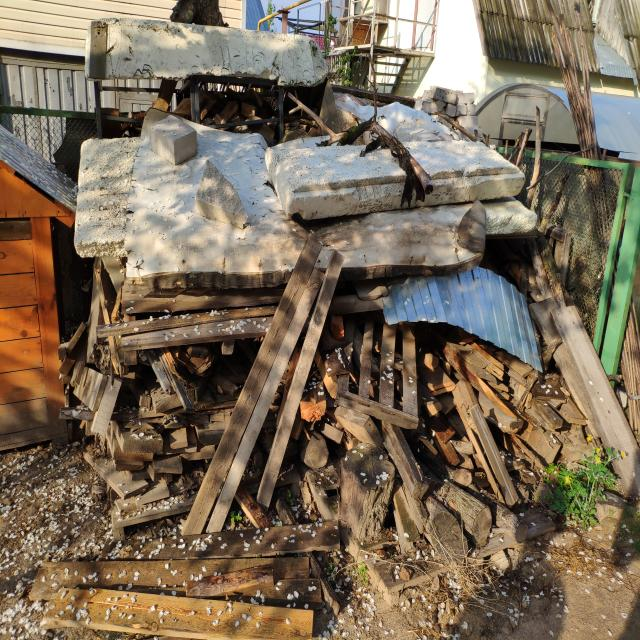entulho: (332, 309, 636, 609), (98, 331, 336, 529), (27, 531, 339, 629), (139, 112, 295, 284), (85, 13, 329, 91), (369, 98, 529, 206), (108, 263, 276, 349), (269, 137, 410, 222), (78, 133, 139, 260), (501, 234, 571, 309)
